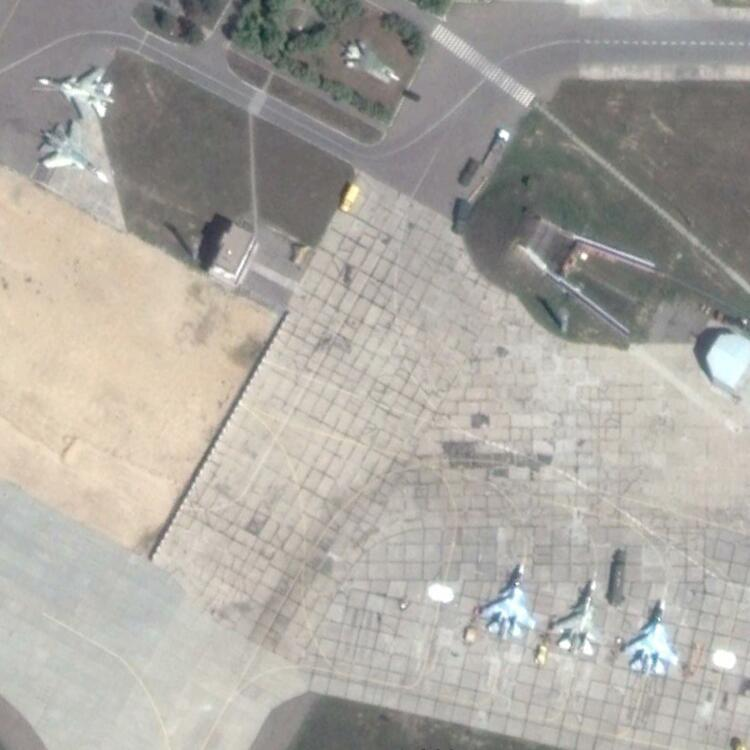A19: (474, 559, 538, 642), (619, 594, 681, 678), (547, 575, 609, 658), (33, 117, 110, 181), (33, 65, 115, 121)
A20: (337, 35, 401, 86)
